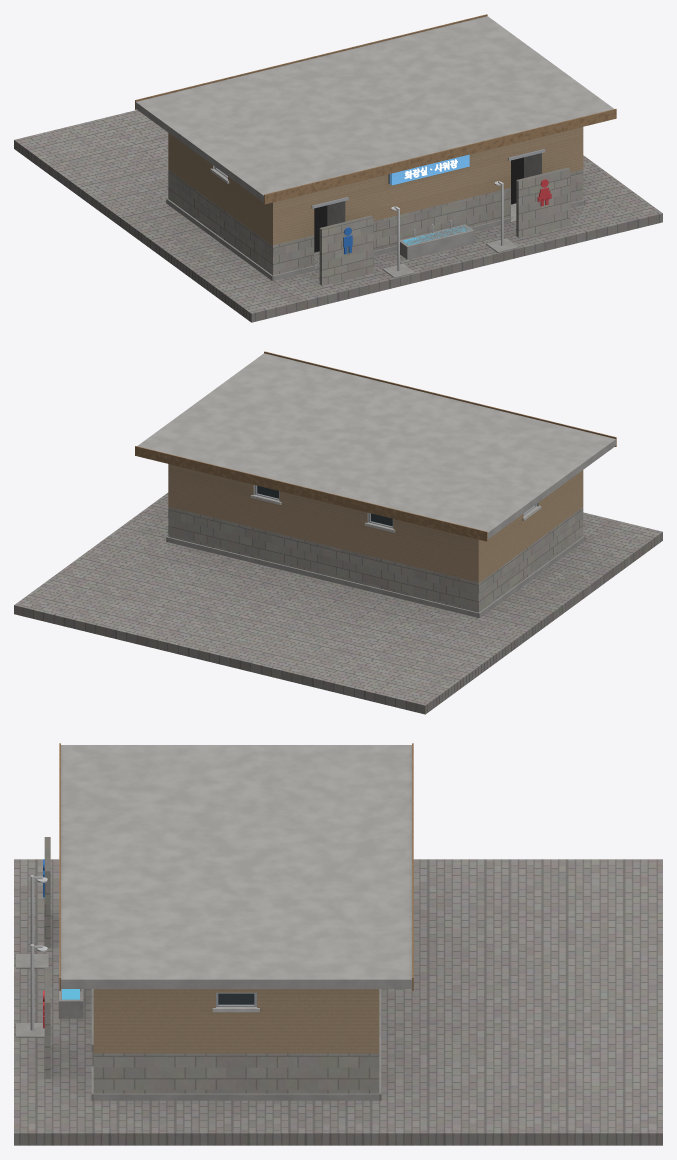
File: IlsanToilet01_LOD1.fbx
3 views of the same model, one above another, from view 1: azimuth 30°, elevation 25°; view 2: azimuth 150°, elevation 25°; view 3: azimuth 270°, elevation 25° (orthographic). The views are drawn at different scales.
Visible parts, largest first — view 1: IlsanToilet01_LOD1; view 2: IlsanToilet01_LOD1; view 3: IlsanToilet01_LOD1.
Part boxes in pixels (x1=…): IlsanToilet01_LOD1: x1=14, y1=14, x2=662, y2=322; IlsanToilet01_LOD1: x1=14, y1=351, x2=662, y2=714; IlsanToilet01_LOD1: x1=14, y1=743, x2=662, y2=1145.
Bounding box in the file's own units: 15.9 × 4 × 15.9.
Materials: 1 (1 with a texture image).
